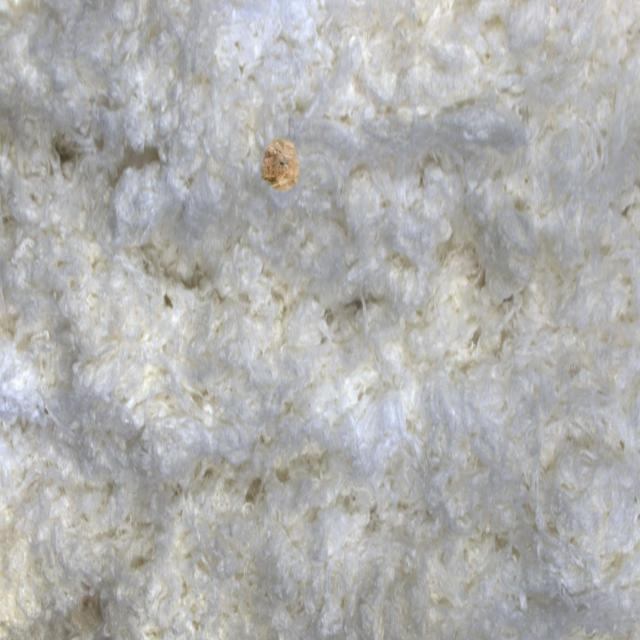dust: (234, 106, 326, 242)
